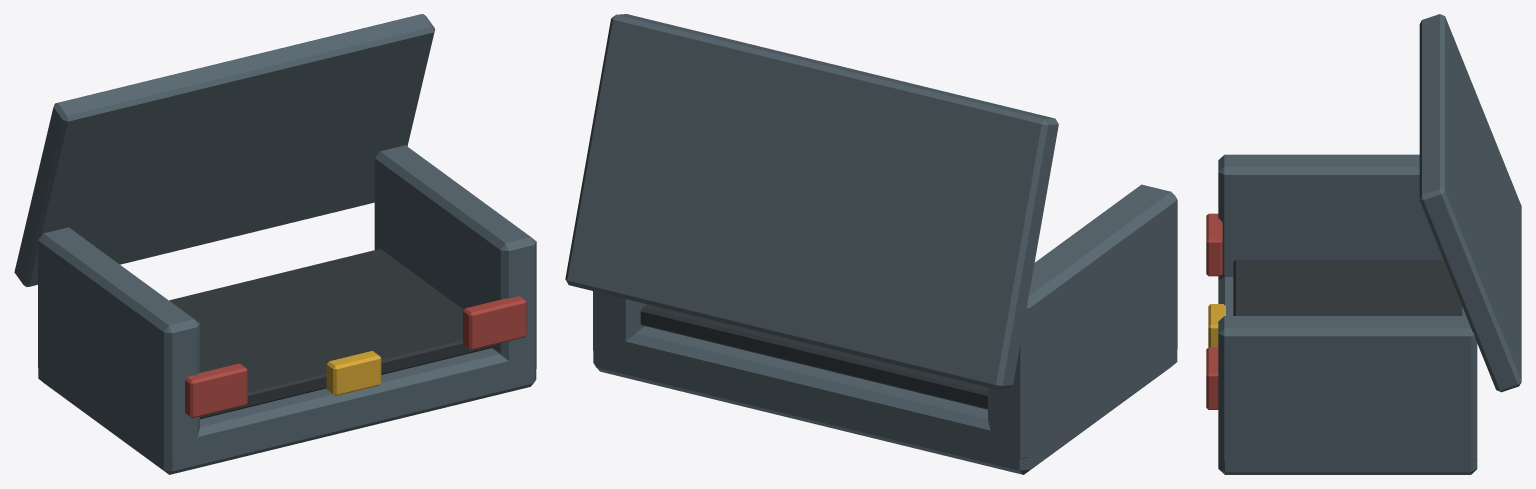
Rendered from environment_searchable_car_trunk_model.glb.
3 renders of one model, left to right at view 1: azimuth 30°, elevation 25°; view 2: azimuth 150°, elevation 25°; view 3: azimuth 270°, elevation 25°, orthographic. The views are drawn at different scales.
Parts seen in each view (by area): view 1: BH_Searchable_CarTrunk_RenderMesh; view 2: BH_Searchable_CarTrunk_RenderMesh; view 3: BH_Searchable_CarTrunk_RenderMesh.
Part boxes in pixels (<box>): BH_Searchable_CarTrunk_RenderMesh: <box>14,14,536,474</box>; BH_Searchable_CarTrunk_RenderMesh: <box>565,14,1177,474</box>; BH_Searchable_CarTrunk_RenderMesh: <box>1206,14,1521,474</box>.
Size of what is drawn, in the model's own units: 1.55 by 1.16 by 1.16.
